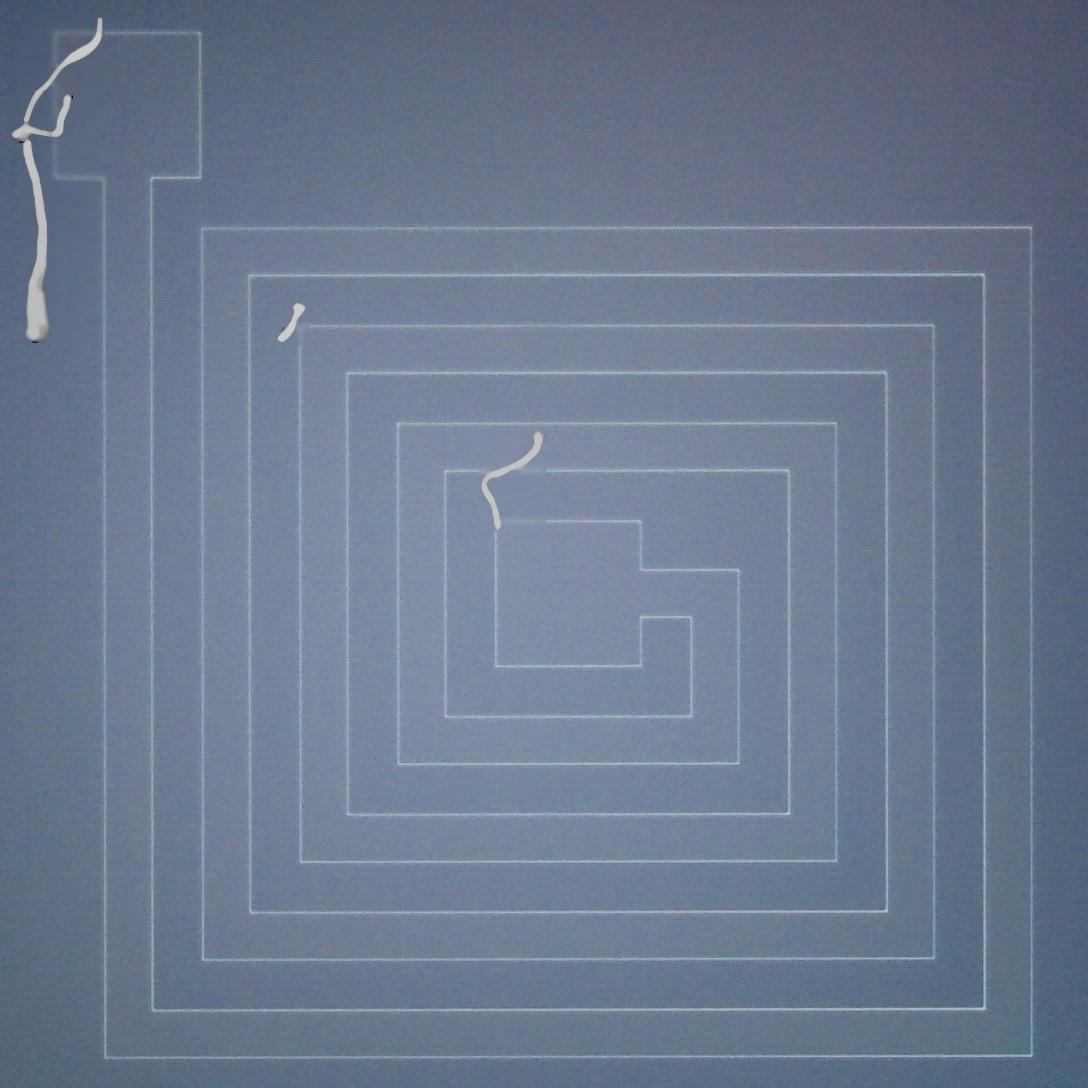foreign: (16, 15, 107, 354), (477, 429, 554, 537), (10, 91, 79, 148), (275, 298, 311, 353)
